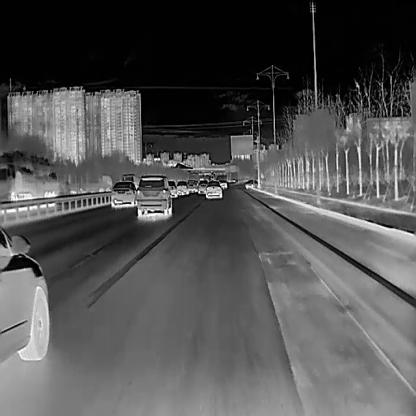car: (0, 224, 49, 362), (136, 174, 170, 215), (109, 180, 135, 208), (204, 182, 221, 198), (175, 180, 188, 195), (167, 180, 176, 196), (187, 178, 197, 192), (197, 180, 207, 192)
truck: (0, 150, 59, 212)
